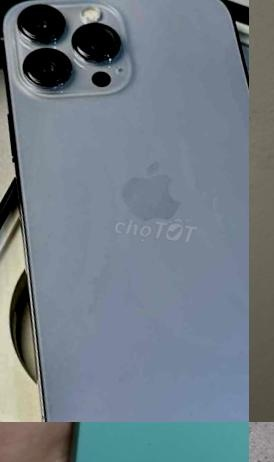physical_damage: (42, 422, 249, 462)
